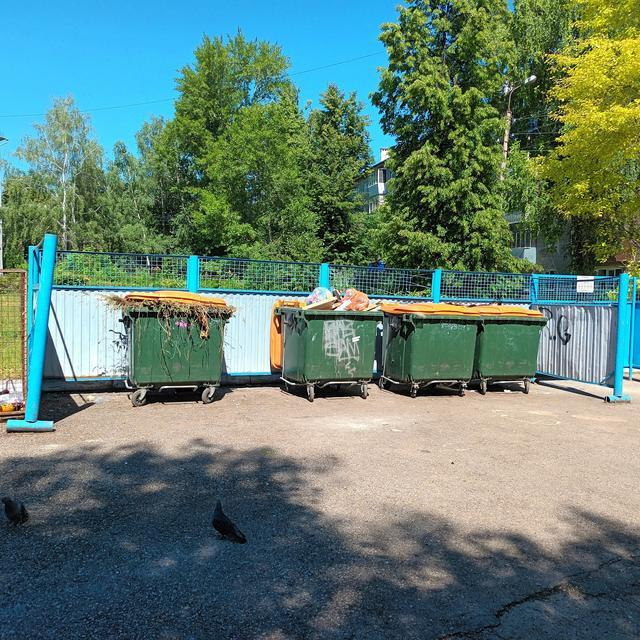Trash_Can_Closed: (385, 303, 480, 381), (472, 304, 547, 378)
Trash_Can_Full: (122, 291, 227, 389), (282, 287, 384, 384)
